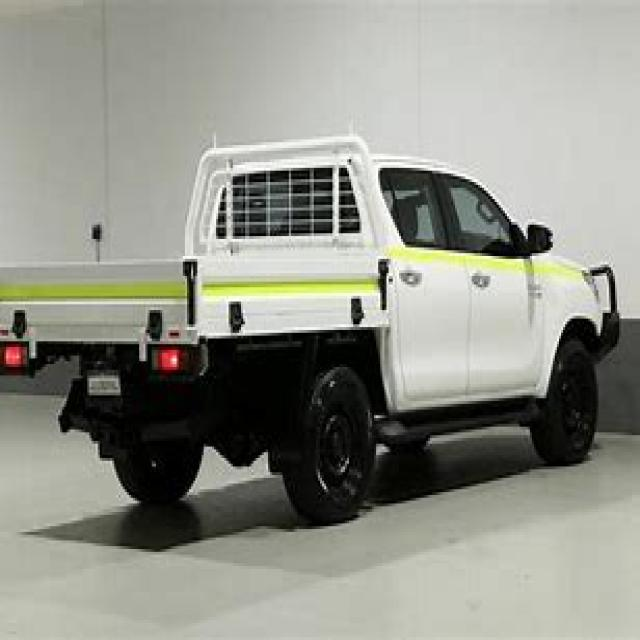light_vehicle: (2, 126, 632, 524)
